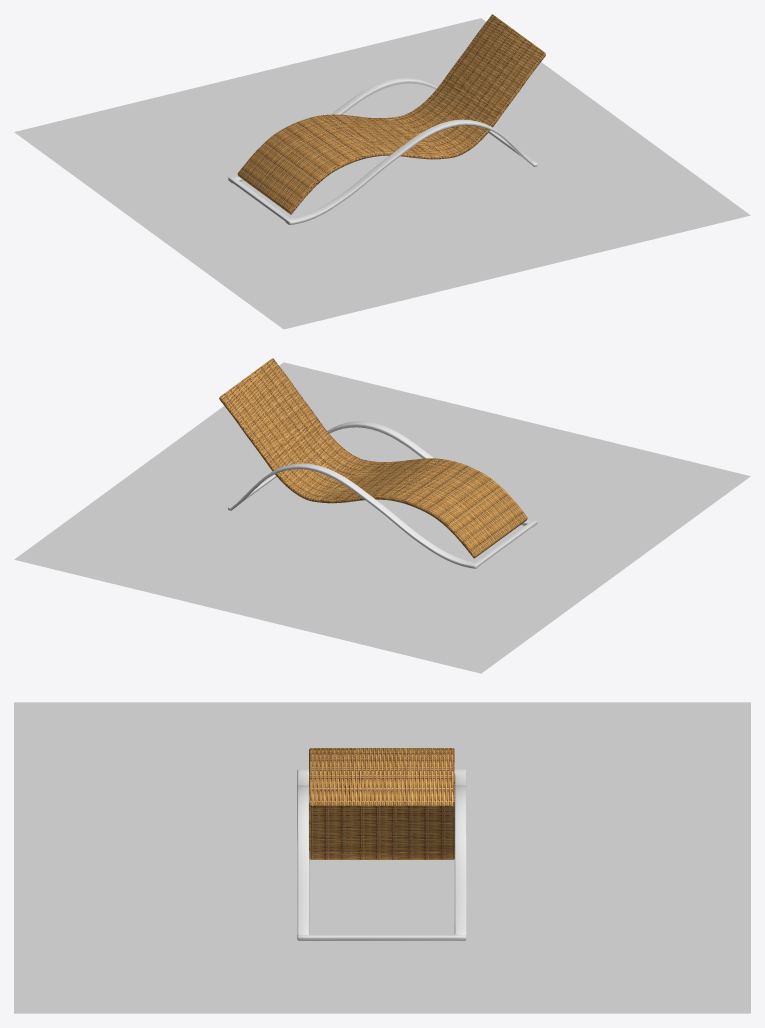
Rendered from weaved_chair.glb.
The picture shows the model from 3 angles, top to bottom: view 1: azimuth 30°, elevation 25°; view 2: azimuth 150°, elevation 25°; view 3: azimuth 270°, elevation 25°; orthographic projection. The views are drawn at different scales.
Parts seen in each view (by area): view 1: Plane, CHAIR STAND; view 2: Plane, CHAIR STAND; view 3: Plane, CHAIR STAND.
Part boxes in pixels (x1,y1,x2,y2): Plane: (14, 18, 750, 329); CHAIR STAND: (228, 14, 545, 224); Plane: (14, 362, 750, 673); CHAIR STAND: (219, 358, 537, 568); Plane: (14, 702, 750, 1013); CHAIR STAND: (297, 748, 466, 940).
Size of the model in its own units: 3.69 by 0.8146 by 3.69.
Materials: 3 (1 with a texture image).
